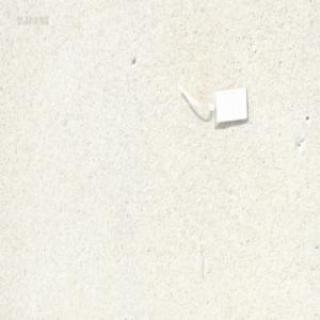LuggageTagtrack_idkeyframe: (172, 82, 250, 128)
